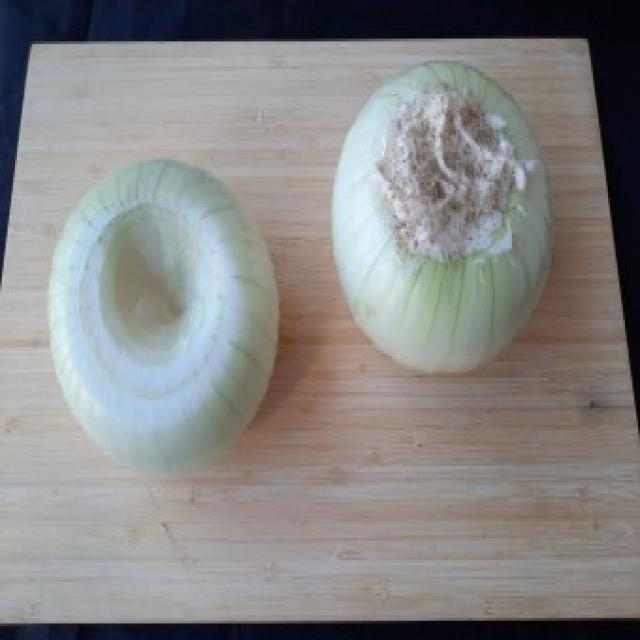onion: (36, 137, 294, 520), (330, 54, 566, 404)
